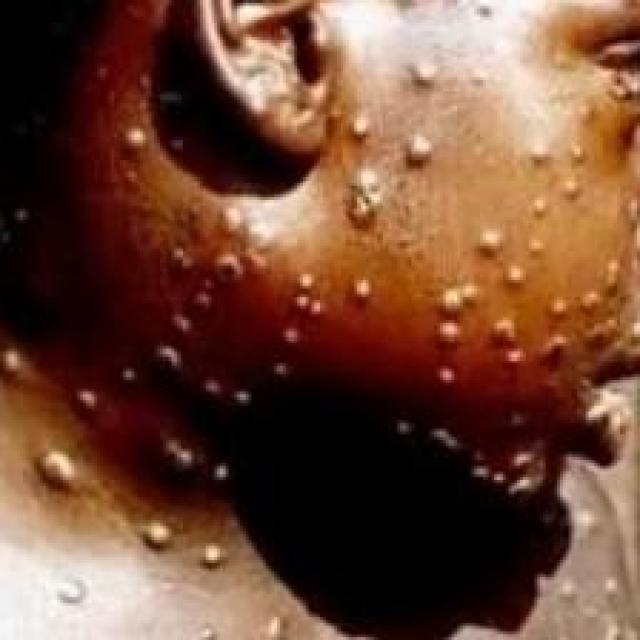monkeypox: (74, 0, 640, 640)
